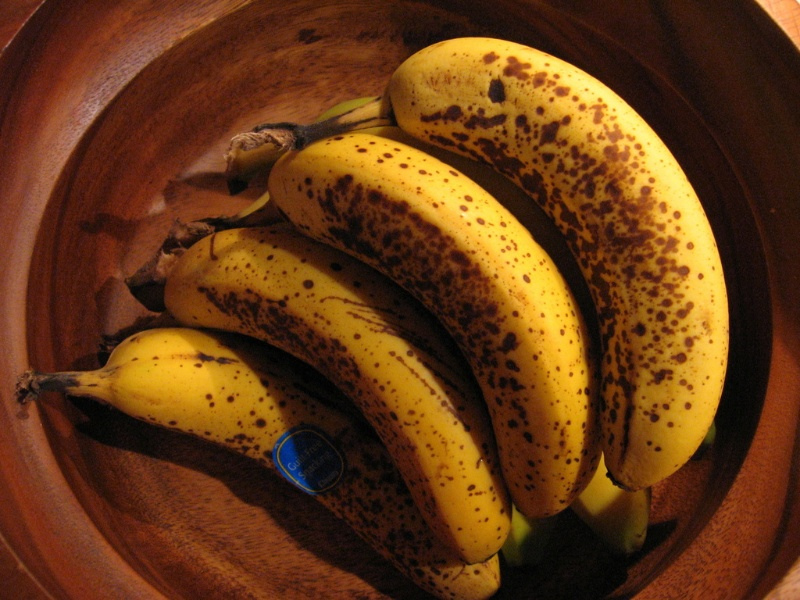banana: (50, 36, 729, 594)
